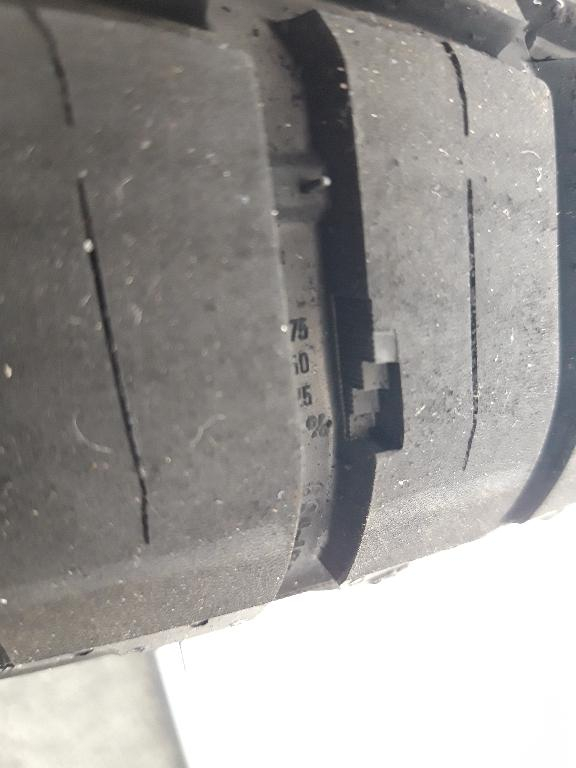temoin:75: (327, 316, 417, 464)
